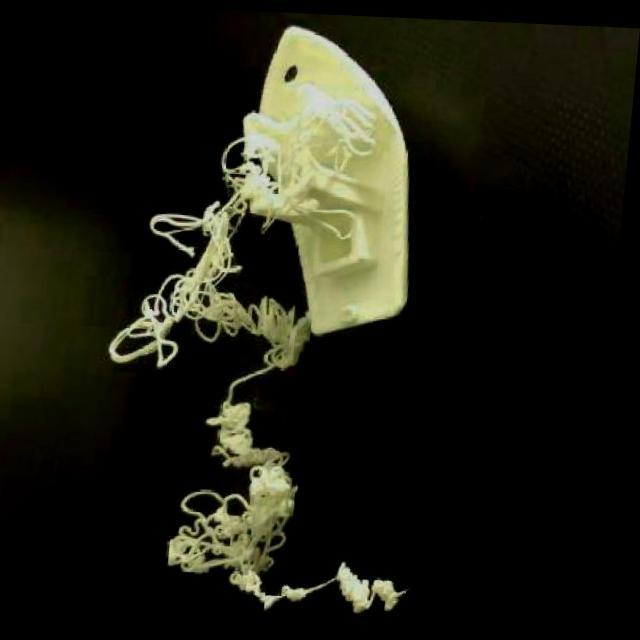spaghetti: (107, 77, 392, 382), (160, 368, 316, 614), (300, 552, 419, 622)
